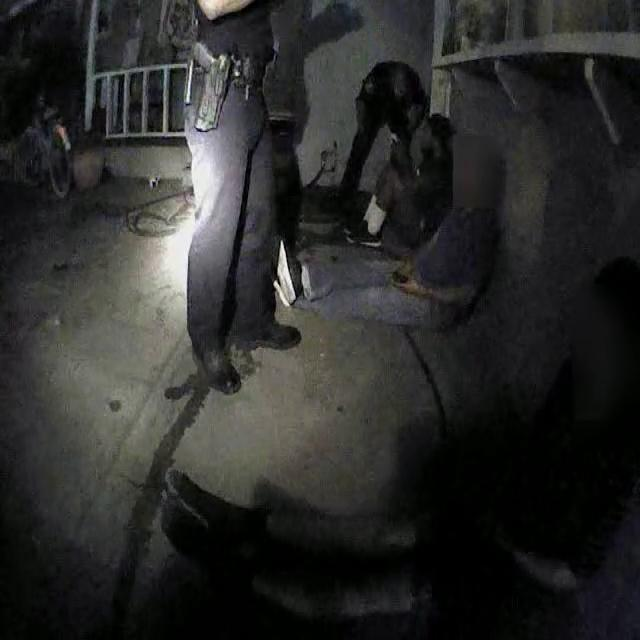gun: (174, 24, 248, 140)
